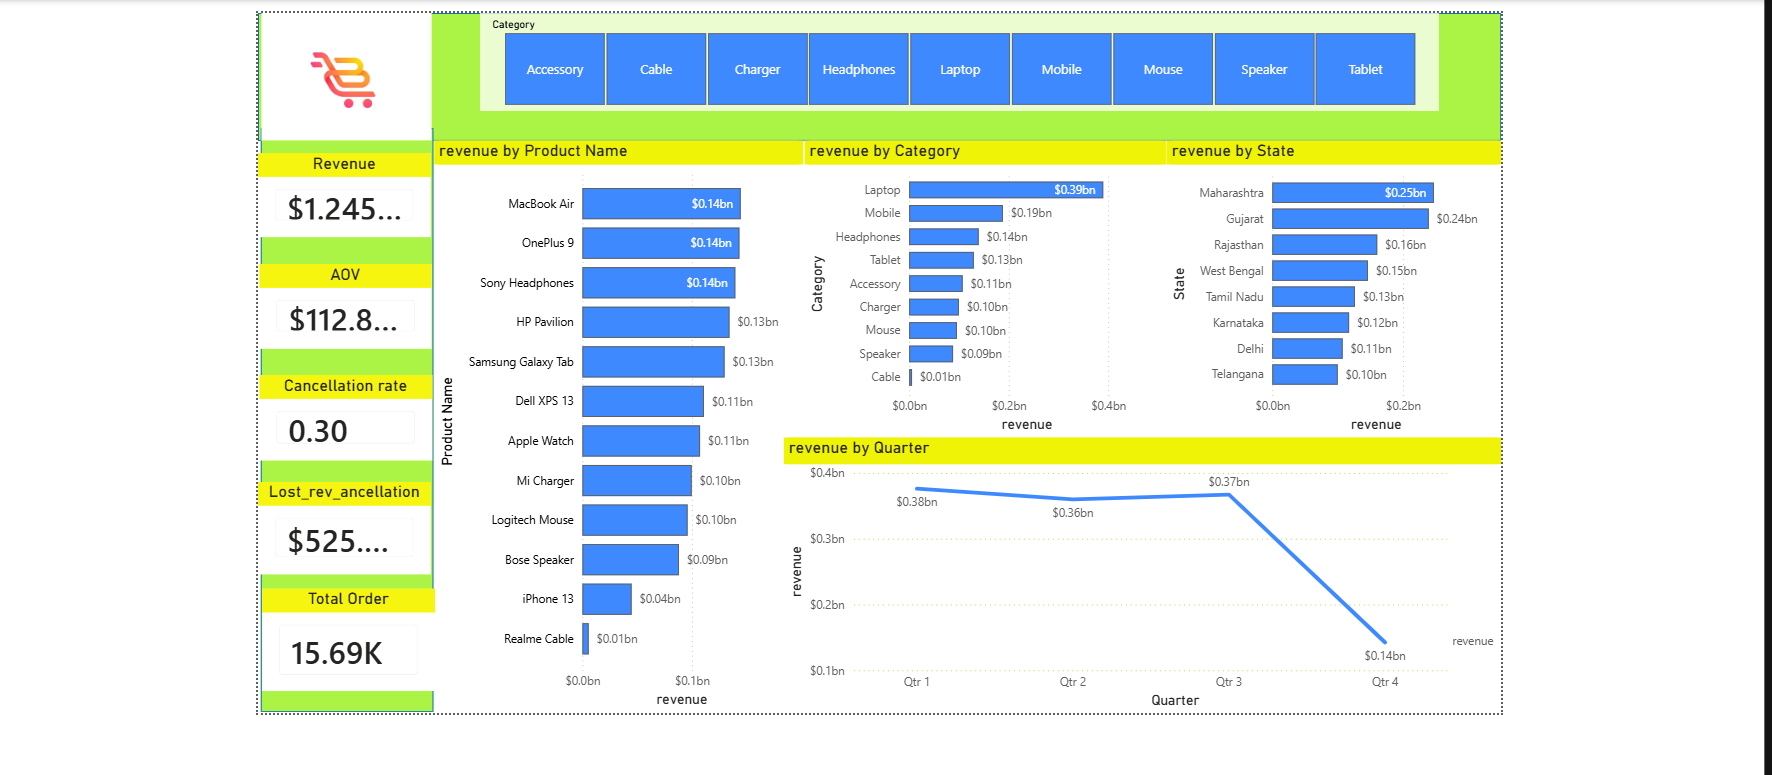

This screenshot's page, from the dashboard's own definition file:
{"tool":"powerbi","page":{"name":"Page 1","canvas":[1280,720],"ordinal":0},"visuals":[{"type":"shape","box":[0,0,1280,131.7],"z":0},{"type":"shape","box":[2.9,118.5,177.8,601.3],"z":1000},{"type":"image","box":[0,0,182.1,131.5],"z":2000},{"type":"barChart","fields":{"Category":["products.Product Name"],"Y":["Table.revenue"]},"box":[182.1,131.5,380.1,588.2],"z":3000},{"type":"barChart","fields":{"Category":["products.Category"],"Y":["Table.revenue"]},"box":[562.2,131.5,372.9,305],"z":4000},{"type":"lineChart","fields":{"Category":["orders.Date and time of purchase.Variation.Date Hierarchy.Year","orders.Date and time of purchase.Variation.Date Hierarchy.Quarter","orders.Date and time of purchase.Variation.Date Hierarchy.Month","orders.Date and time of purchase.Variation.Date Hierarchy.Day"],"Y":["Table.revenue"]},"box":[542,436.5,738.6,283.3],"z":5000},{"type":"barChart","fields":{"Category":["customers.State"],"Y":["Table.revenue"]},"box":[935.1,131.5,345.4,305],"z":6000},{"type":"slicer","fields":{"Values":["products.Category"]},"box":[228.4,0,987.2,101.2],"z":7000},{"type":"cardVisual","title":"Revenue","fields":{"Data":["Table.revenue"]},"box":[0,144.5,177.8,86.7],"z":7001},{"type":"cardVisual","title":" AOV","fields":{"Data":["Table.aov"]},"box":[1.4,258.7,177.8,86.7],"z":7002},{"type":"cardVisual","title":"Cancellation rate","fields":{"Data":["Table.cancellation rate"]},"box":[1.4,372.9,177.8,88.2],"z":7003},{"type":"cardVisual","title":" Lost_rev_ancellation","fields":{"Data":["Table.lost_rev_cancellation"]},"box":[0,482.7,177.8,95.4],"z":7004},{"type":"cardVisual","title":" Total Order","fields":{"Data":["CountNonNull(orders.OrderID)"]},"box":[4.3,592.6,177.8,105.5],"z":7005}]}

Visuals, with their boxes on the page's 1280x720 design canvas (x1, y1, x2, y2). These are canvas units, not pixel positions in the 1772x775 screenshot, which may show the page scaled, cropped or inside an application window:
shape: 0, 0, 1280, 132
shape: 3, 118, 181, 720
image: 0, 0, 182, 132
barChart - products.Product Name x Table.revenue: 182, 132, 562, 720
barChart - products.Category x Table.revenue: 562, 132, 935, 436
lineChart - orders.Date and time of purchase.Variation.Date Hierarchy.Year x orders.Date and time of purchase.Variation.Date Hierarchy.Quarter: 542, 436, 1281, 720
barChart - customers.State x Table.revenue: 935, 132, 1280, 436
slicer - products.Category: 228, 0, 1216, 101
"Revenue" cardVisual: 0, 144, 178, 231
" AOV" cardVisual: 1, 259, 179, 345
"Cancellation rate" cardVisual: 1, 373, 179, 461
" Lost_rev_ancellation" cardVisual: 0, 483, 178, 578
" Total Order" cardVisual: 4, 593, 182, 698
